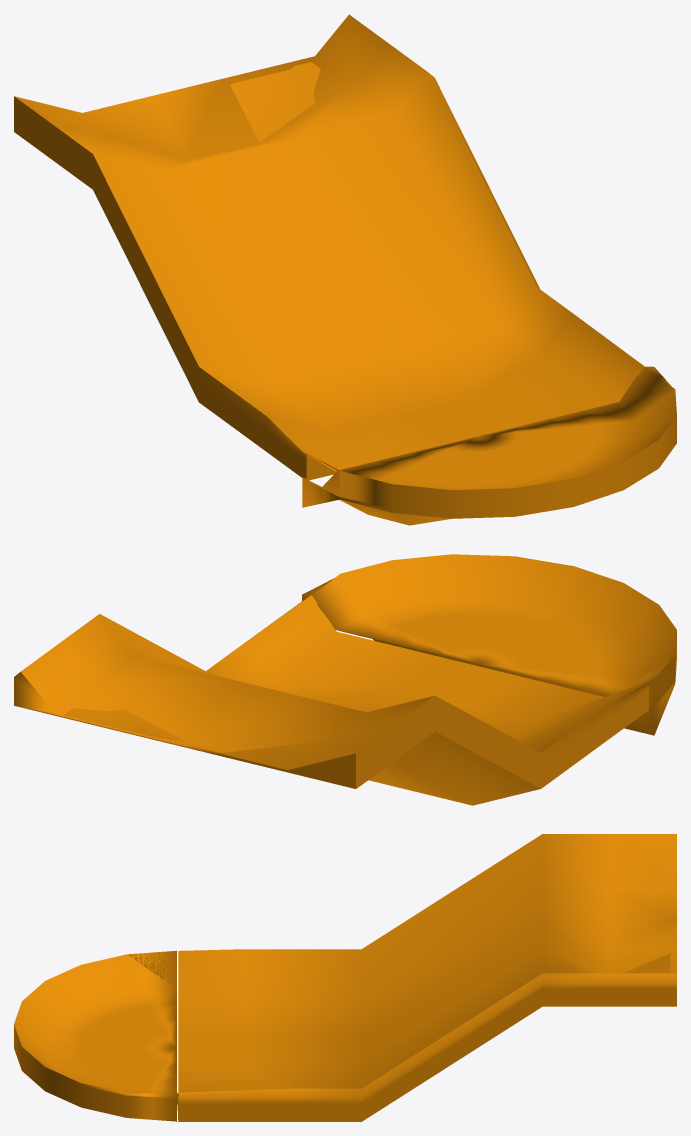
The model's file is testtrack2.fbx.
The picture shows the model from 3 angles, top to bottom: view 1: azimuth 30°, elevation 25°; view 2: azimuth 150°, elevation 25°; view 3: azimuth 270°, elevation 25°; orthographic projection. The views are drawn at different scales.
Parts seen in each view (by area): view 1: pCylinder2; view 2: pCylinder2; view 3: pCylinder2.
Part boxes in pixels (box(x1,y1,x2,y2)): pCylinder2: box(14, 14, 676, 525); pCylinder2: box(14, 554, 676, 805); pCylinder2: box(14, 834, 676, 1121).
Size of the model in its own units: 10.3 by 5.71 by 19.7.
